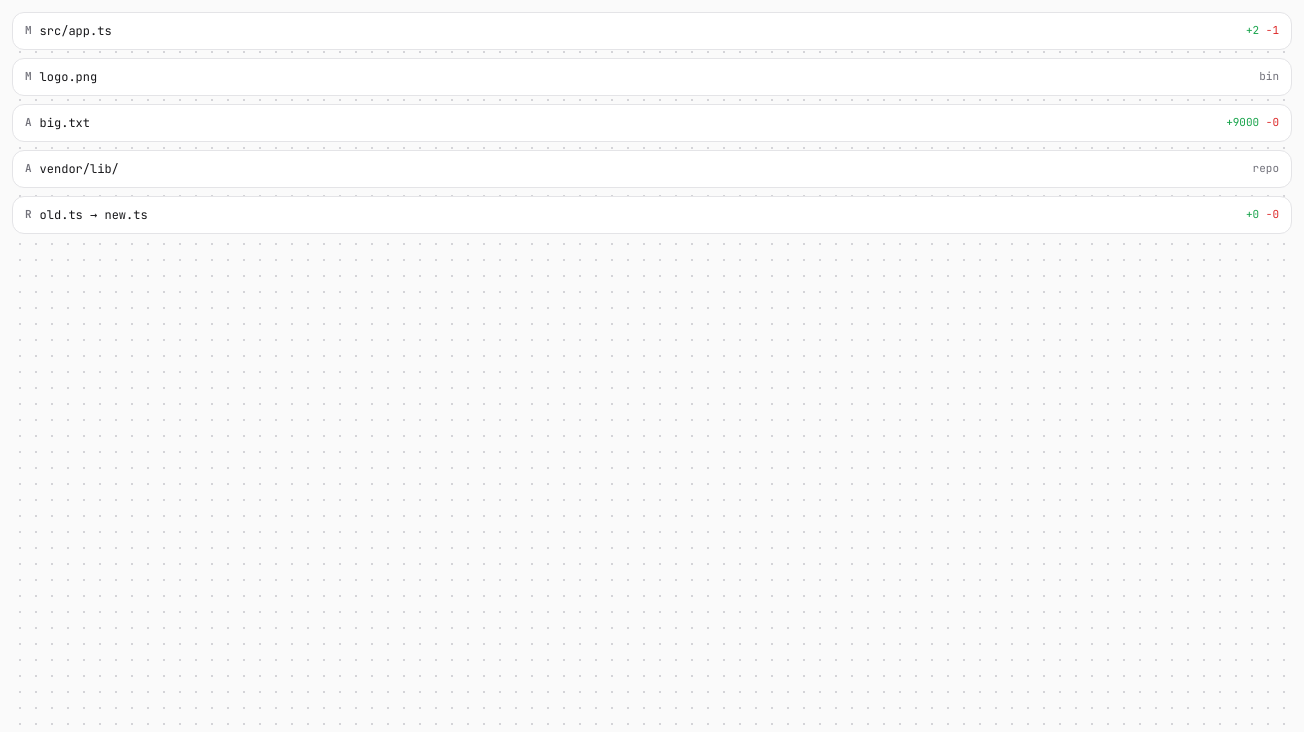
it: ReviewTab › shows a stub with the stats for a binary or over-cap file, and for a nested repo
Click the button "M logo.png bin": (68, 77) [13,59,1291,95]
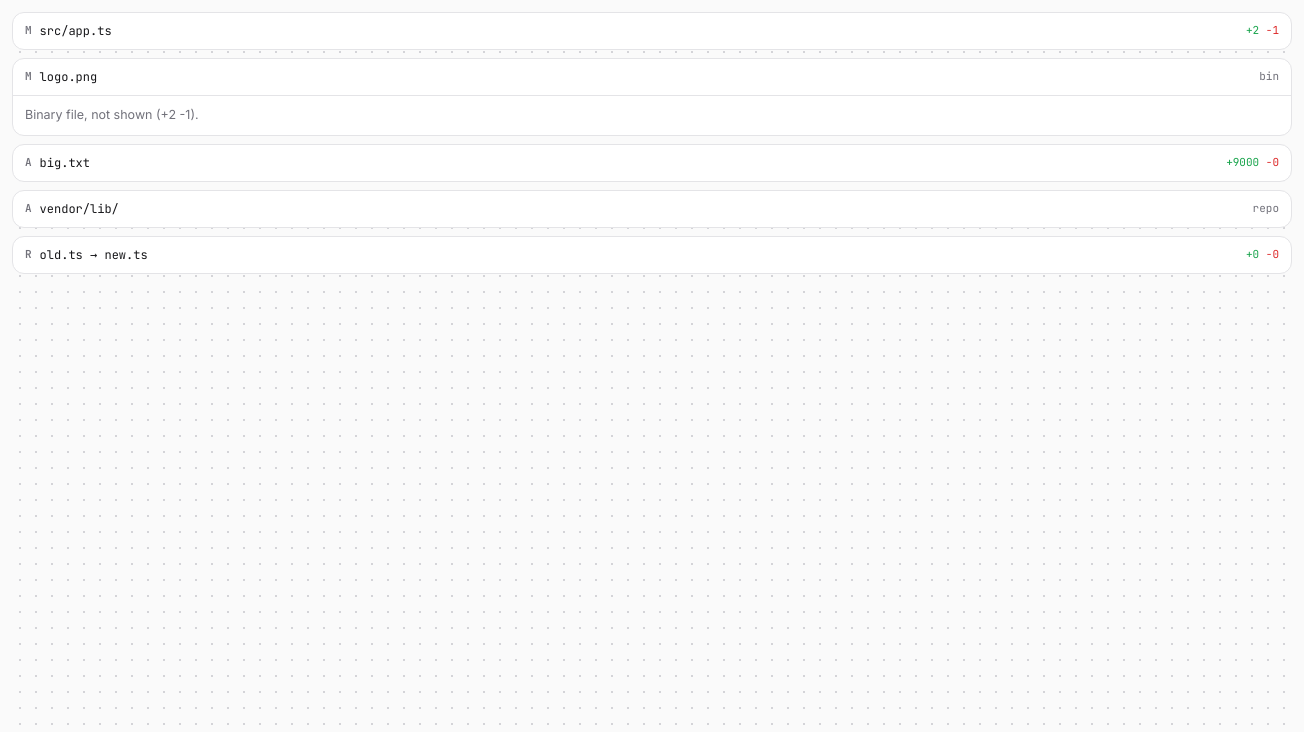
Result: the text "Binary file, not shown (+2 -1)." is shown at [25,107,199,122]
Click the button "A big.txt +9000 -0": (65, 163) [13,145,1291,181]
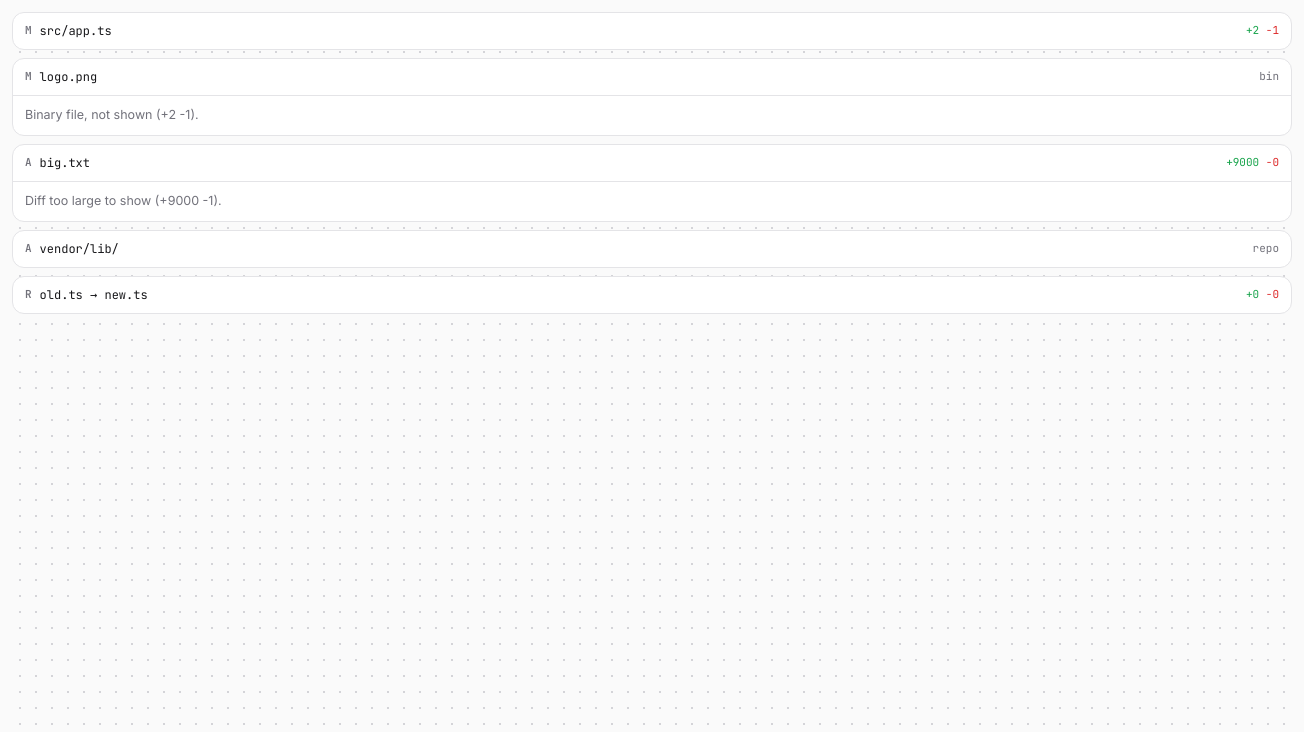
Result: the text "Diff too large to show (+9000 -1)." is shown at [25,193,222,208]
Click the button "A vendor/lib/ repo": (79, 248) [13,230,1291,266]
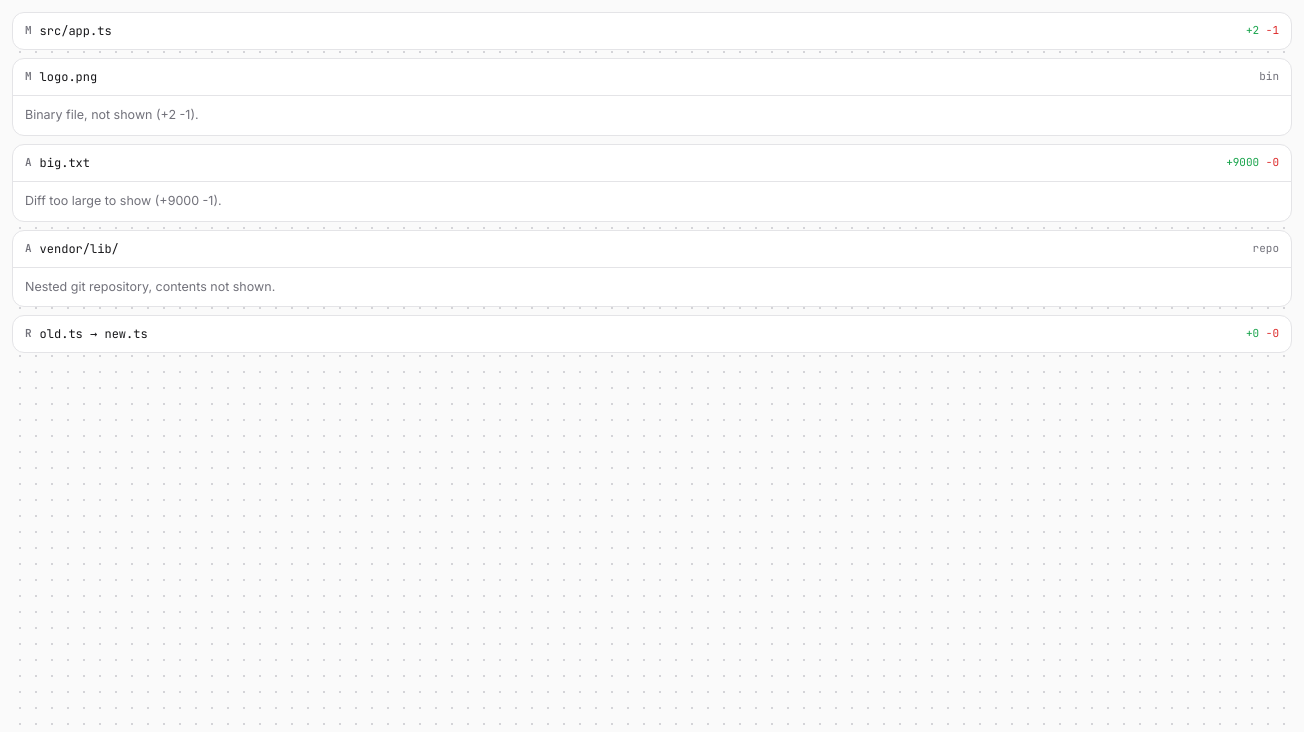
Result: the text "Nested git repository, contents not shown." is shown at [25,278,275,294]
